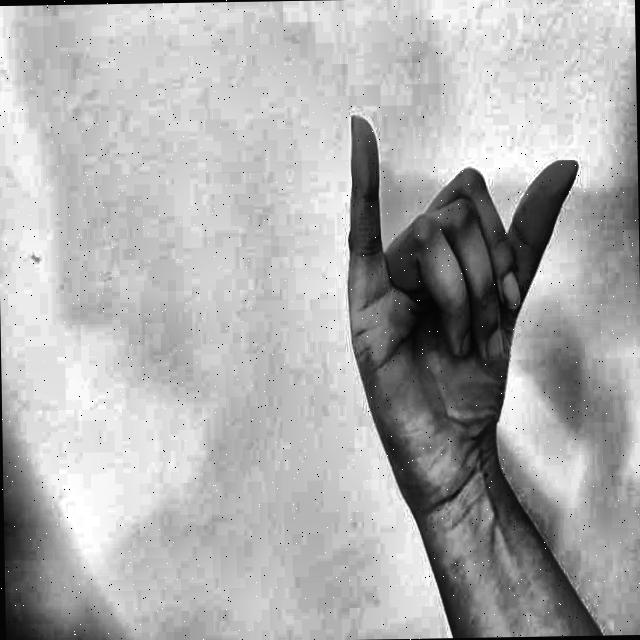Oi: (310, 84, 599, 514)
